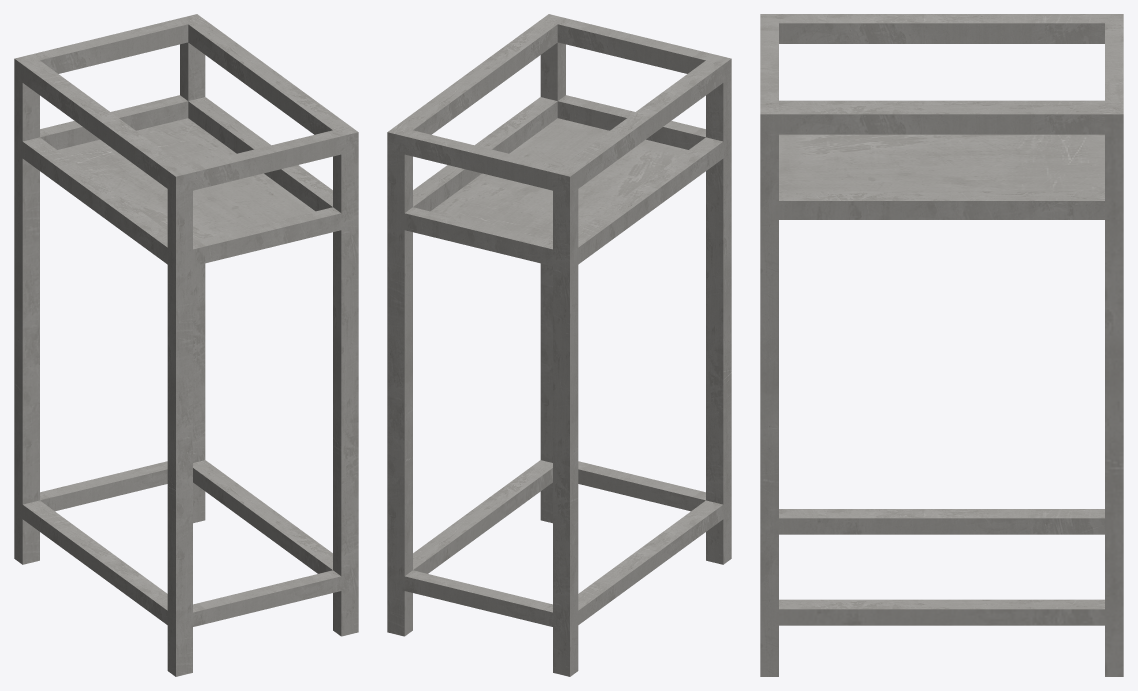
File: zhiwu.FBX
3 views of the same model, side by side, from view 1: azimuth 30°, elevation 25°; view 2: azimuth 150°, elevation 25°; view 3: azimuth 270°, elevation 25° (orthographic). The views are drawn at different scales.
Visible parts, largest first — view 1: YF_Model_zhiwu; view 2: YF_Model_zhiwu; view 3: YF_Model_zhiwu.
Boxes of the visible parts, x1,y1,x2,y2 form: YF_Model_zhiwu: (14, 14, 358, 676); YF_Model_zhiwu: (387, 14, 731, 676); YF_Model_zhiwu: (760, 14, 1123, 676).
Bounding box in the file's own units: 31.74 × 83 × 48.56.
1 material, 1 textured.
